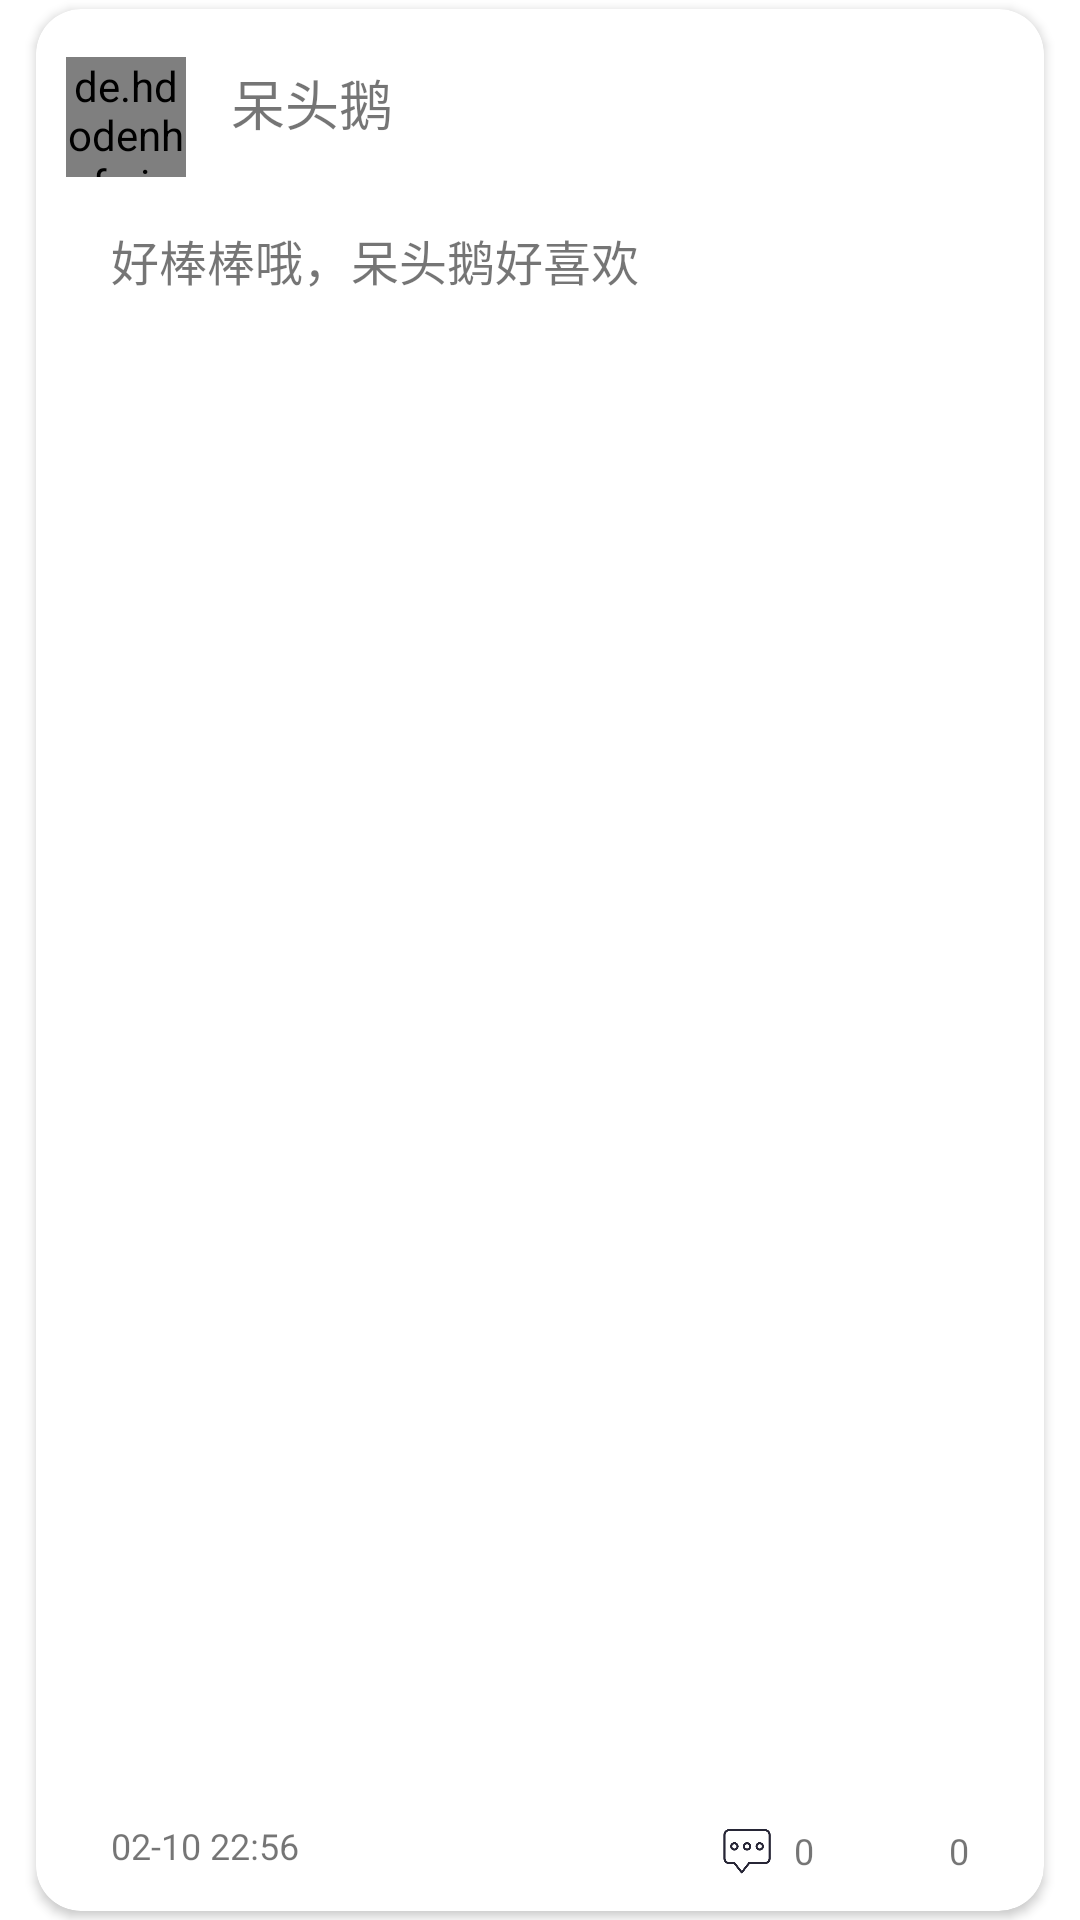

Icon bounding boxes for this 1080x1920 phone screenshot, format (x1, y1, x2, y2):
comments: (723, 1829, 771, 1874)
